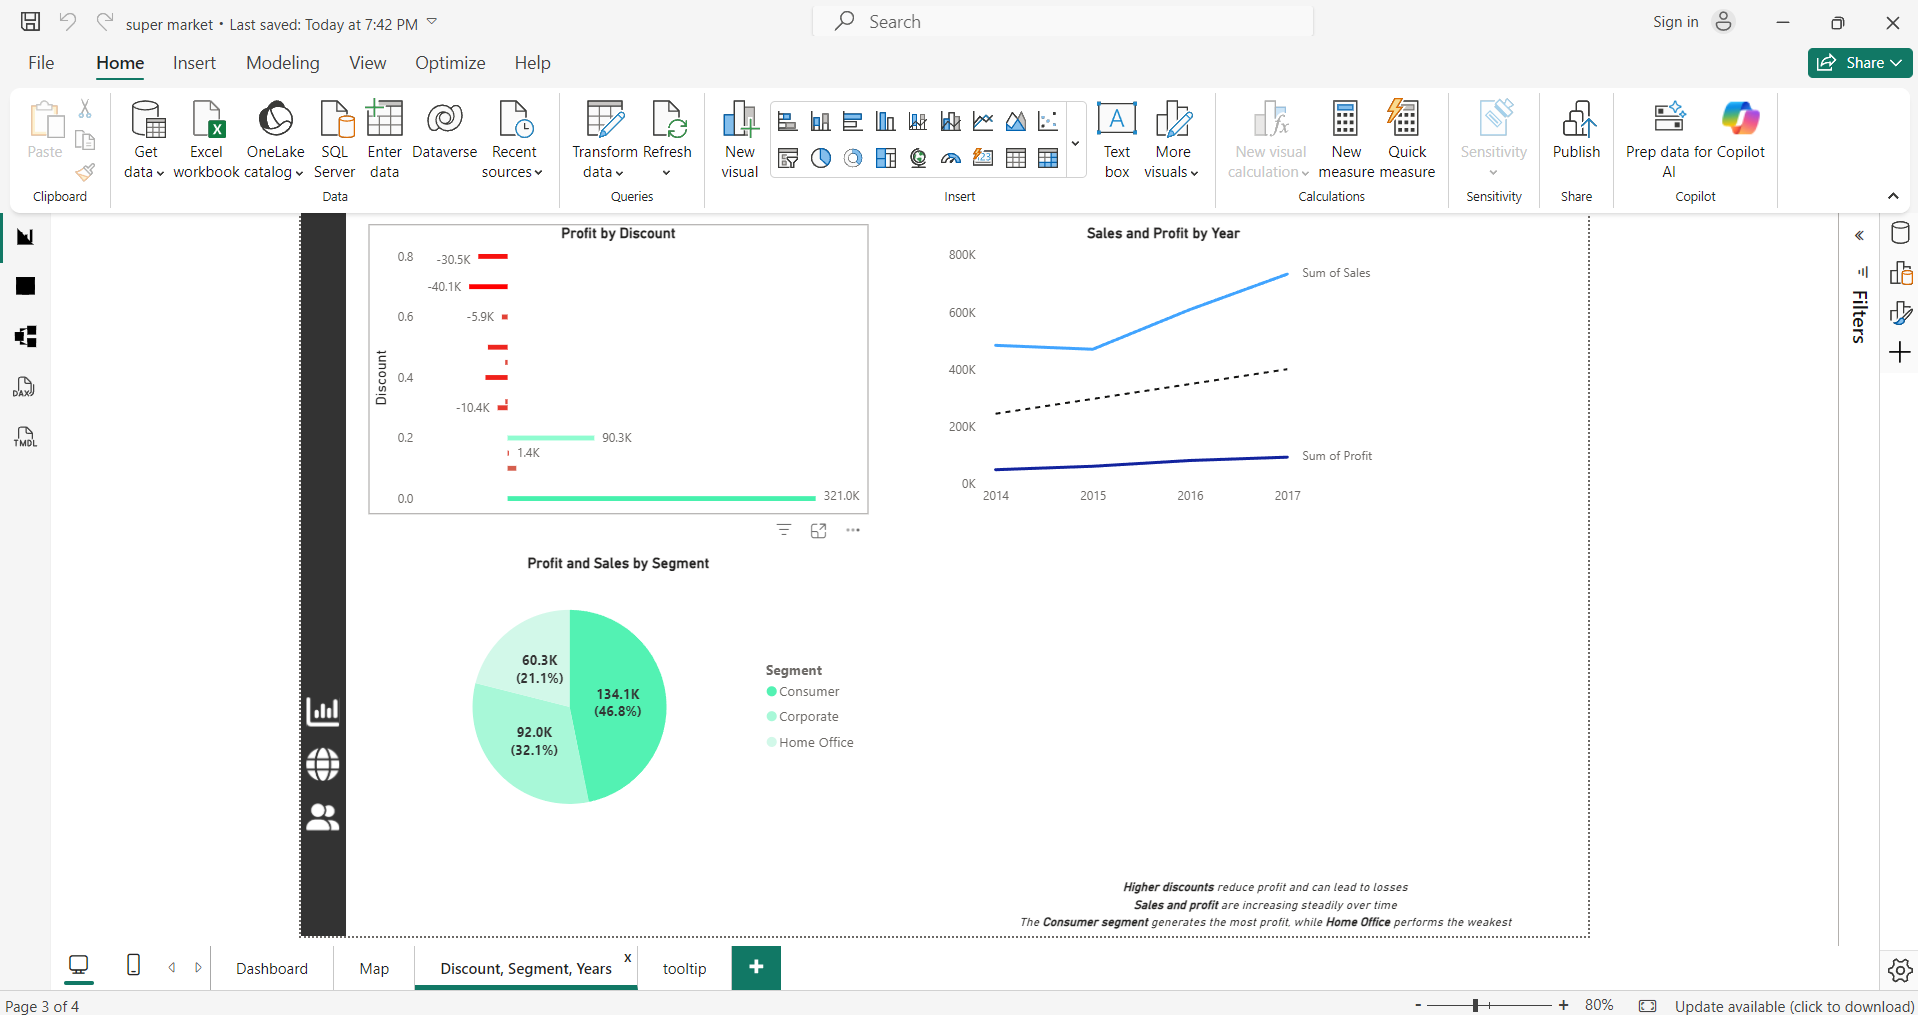

Layout of this report page (visuals, bound fields, positions):
{"tool":"powerbi","page":{"name":"Discount, Segment, Years","canvas":[1280,720],"ordinal":2},"visuals":[{"type":"shape","box":[0,0,45,720.3],"z":0},{"type":"actionButton","box":[1.7,475.2,41.1,42.3],"z":0,"group":"g1"},{"type":"lineChart","title":"Sales and Profit by Year","fields":{"Category":["Sample - Superstore.Order Date.Variation.Date Hierarchy.Year"],"Y":["Sum(Sample - Superstore.Sales)","Sum(Sample - Superstore.Profit)"]},"box":[639.4,11.2,437.9,288.6],"z":1000},{"type":"actionButton","box":[1.7,579.7,41.1,42.3],"z":1000,"group":"g1"},{"type":"barChart","title":"Profit by Discount","fields":{"Category":["Sample - Superstore.Discount"],"Y":["Sum(Sample - Superstore.Profit)"]},"box":[67.2,11.2,497.6,288.6],"z":2000},{"type":"actionButton","box":[1.7,527.4,41.1,42.3],"z":2000,"group":"g1"},{"type":"pieChart","title":"Profit and Sales by Segment","fields":{"Category":["Sample - Superstore.Segment"],"Y":["Sum(Sample - Superstore.Profit)"]},"box":[67.2,339.6,497.6,287.4],"z":3000},{"type":"textbox","box":[639.4,655.6,640.6,64.7],"z":4000},{"type":"group","id":"g1","title":"navigation","box":[1.7,475.2,41.1,146.8],"z":4001}]}

Visuals, with their boxes on the page's 1280x720 design canvas (x1, y1, x2, y2). These are canvas units, not pixel positions in the 1918x1015 screenshot, which may show the page scaled, cropped or inside an application window:
shape: left=0, top=0, right=45, bottom=720
actionButton: left=2, top=475, right=43, bottom=518
"Sales and Profit by Year" lineChart: left=639, top=11, right=1077, bottom=300
actionButton: left=2, top=580, right=43, bottom=622
"Profit by Discount" barChart: left=67, top=11, right=565, bottom=300
actionButton: left=2, top=527, right=43, bottom=570
"Profit and Sales by Segment" pieChart: left=67, top=340, right=565, bottom=627
textbox: left=639, top=656, right=1280, bottom=720
"navigation" group: left=2, top=475, right=43, bottom=622
